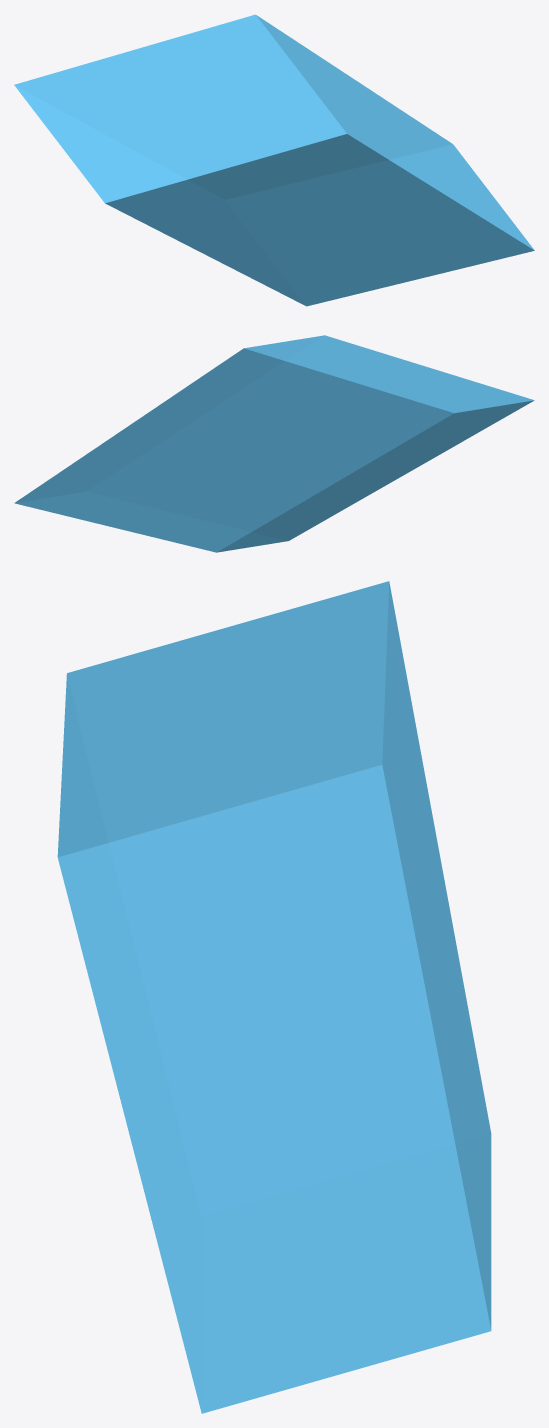
File: Event_420094457_HBrechit_17.fbx
3 views of the same model, one above another, from view 1: azimuth 30°, elevation 25°; view 2: azimuth 150°, elevation 25°; view 3: azimuth 270°, elevation 25° (orthographic). The views are drawn at different scales.
Parts seen in each view (by area): view 1: Model; view 2: Model; view 3: Model.
Part boxes in pixels (x1,y1,x2,y2): Model: [14, 14, 534, 306]; Model: [14, 335, 534, 552]; Model: [57, 581, 491, 1413].
Bounding box in the file's own units: 1.27 × 0.6592 × 0.5737.
